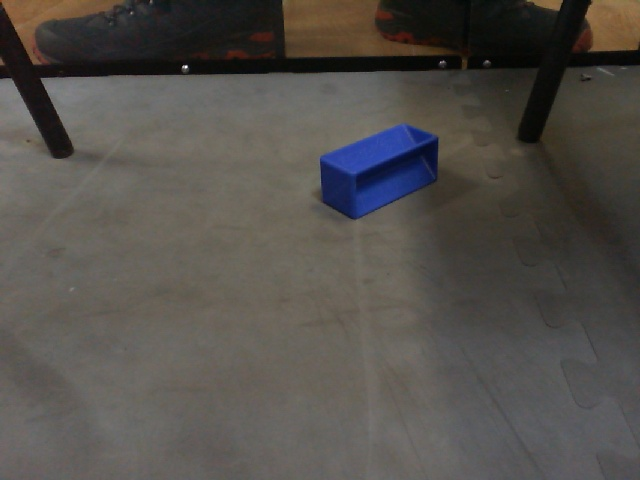BlueSample: (316, 121, 441, 222)
